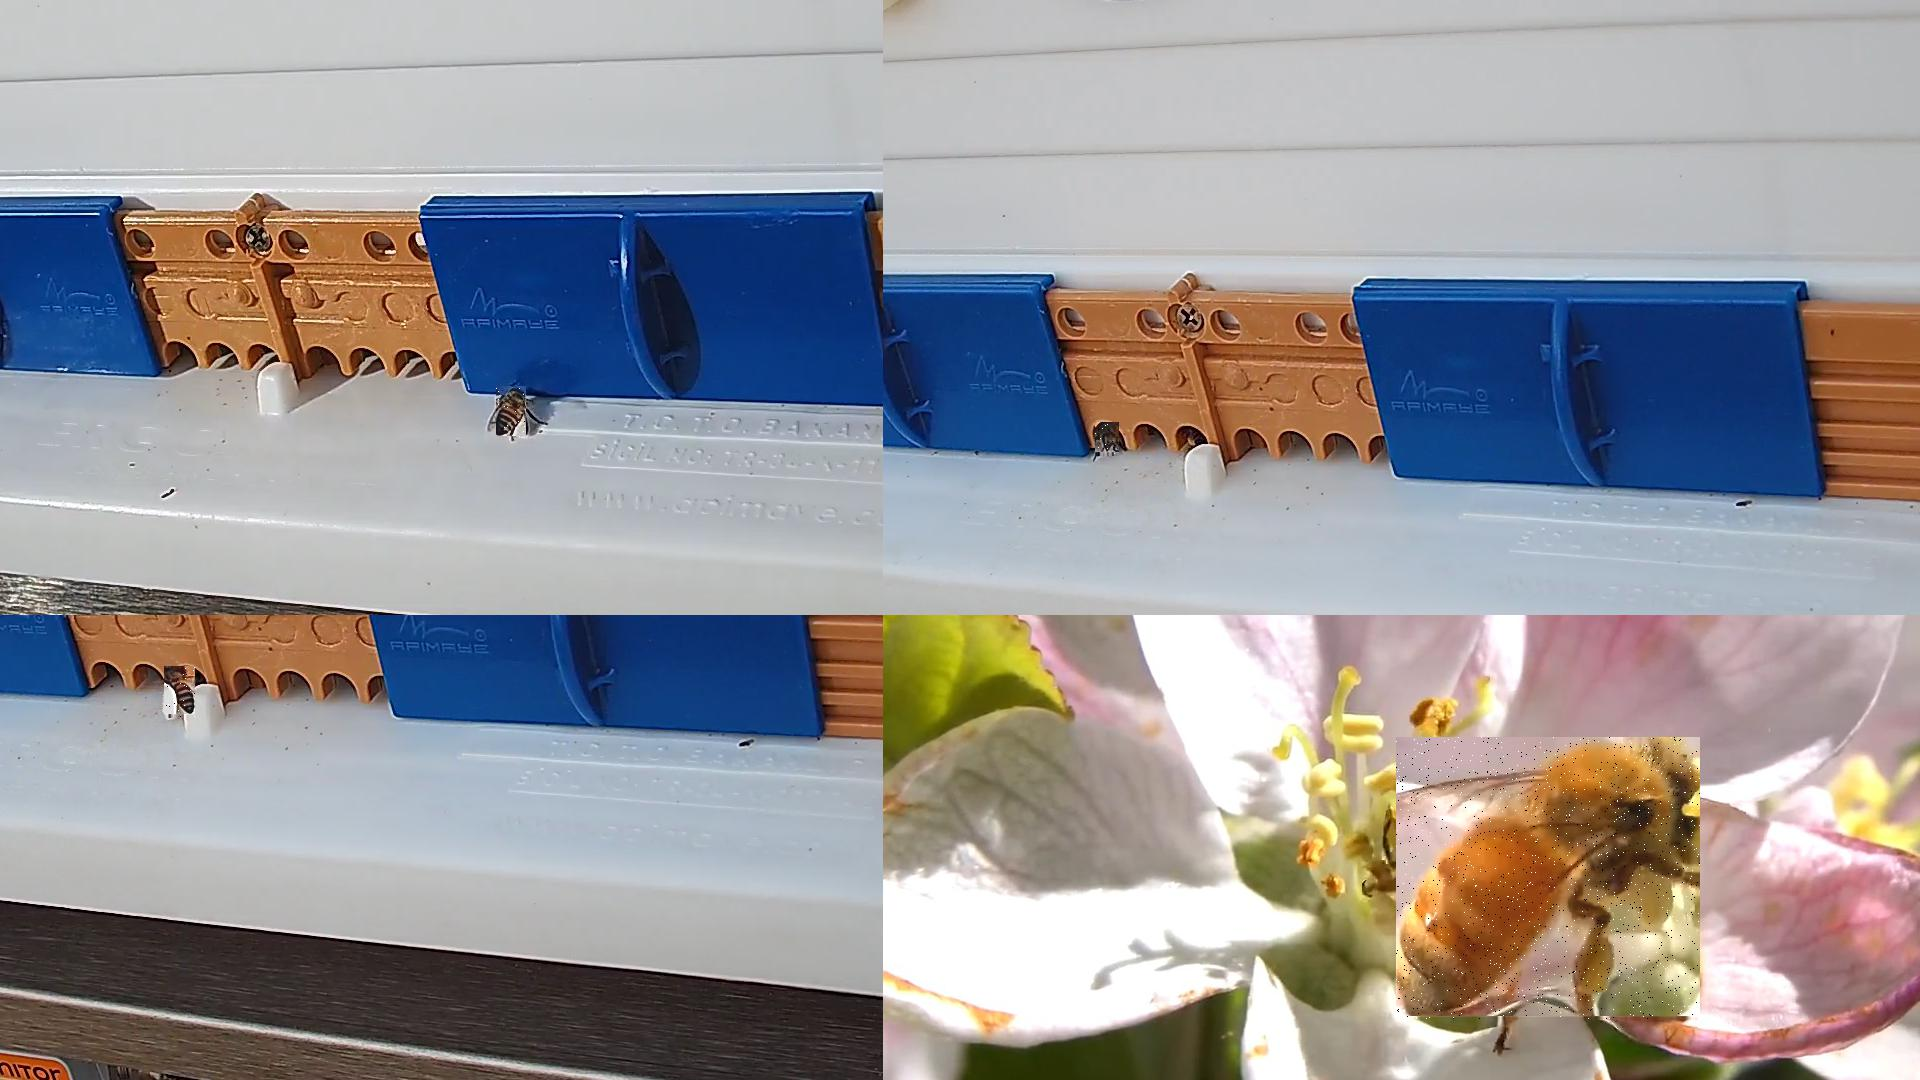bee: (164, 667, 196, 719), (496, 386, 527, 437), (1095, 423, 1120, 457)
pollenbee: (1396, 738, 1701, 1021)
